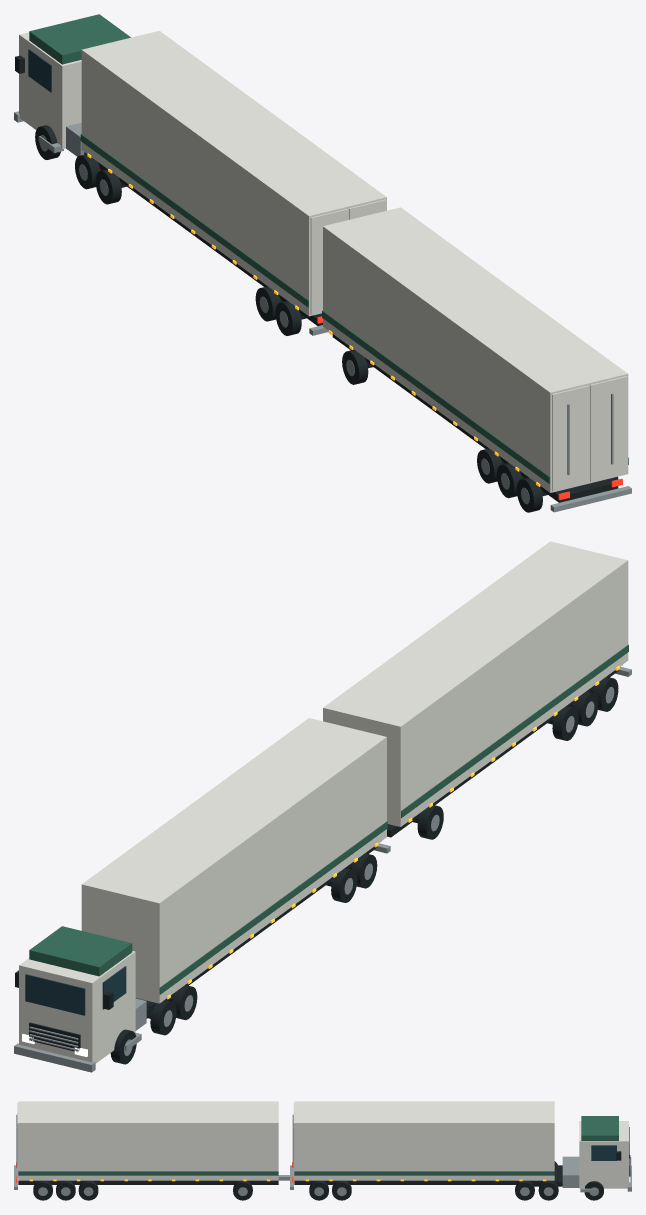
The model's file is truck-double.glb.
3 views of the same model, one above another, from view 1: azimuth 30°, elevation 25°; view 2: azimuth 150°, elevation 25°; view 3: azimuth 270°, elevation 25° (orthographic). The views are drawn at different scales.
Parts seen in each view (by area): view 1: cargo-box (×2), rear-door (×3), cab, cargo-stripe (×2), trailer-2, roof-fairing, trailer-frame (×2), tractor, trailer-1, rear-bumper; view 2: cargo-box (×2), cab, cargo-stripe (×2), roof-fairing, trailer-2, tractor, windshield, trailer-1, bumper, trailer-frame, grille; view 3: cargo-box (×2), cargo-stripe (×2), cab, trailer-frame (×2), trailer-2, tractor, roof-fairing, trailer-1, fuel-tank, side-window, frame.
Part boxes in pixels (box(x1,y1,x2,y2)): cargo-box (×2): box(81, 30, 628, 492); rear-door (×3): box(310, 209, 627, 491); cab: box(19, 32, 81, 149); cargo-stripe (×2): box(80, 134, 550, 483); trailer-2: box(342, 349, 618, 512); roof-fairing: box(29, 14, 130, 64); trailer-frame (×2): box(100, 164, 618, 502); tractor: box(35, 125, 121, 204); trailer-1: box(255, 286, 301, 335); rear-bumper: box(550, 486, 631, 512); cargo-box (×2): box(81, 541, 628, 1003); cab: box(19, 951, 135, 1063); cargo-stripe (×2): box(159, 644, 628, 994); roof-fairing: box(29, 926, 132, 976); trailer-2: box(417, 676, 618, 839); tractor: box(110, 985, 197, 1064); windshield: box(25, 974, 85, 1015); trailer-1: box(331, 853, 377, 902); bumper: box(14, 1043, 95, 1072); trailer-frame: box(387, 670, 618, 837); grille: box(29, 1022, 80, 1052); cargo-box (×2): box(18, 1101, 554, 1180); cargo-stripe (×2): box(18, 1171, 554, 1175); cab: box(579, 1121, 628, 1188); trailer-frame (×2): box(18, 1180, 554, 1184); trailer-2: box(33, 1180, 252, 1200); tractor: box(515, 1161, 603, 1200); roof-fairing: box(581, 1116, 618, 1140); trailer-1: box(309, 1180, 351, 1200); fuel-tank: box(562, 1156, 579, 1187); side-window: box(591, 1145, 616, 1160); frame: box(534, 1165, 562, 1186).
Bounding box in the file's own units: 3.14 × 4.27 × 31.23.
